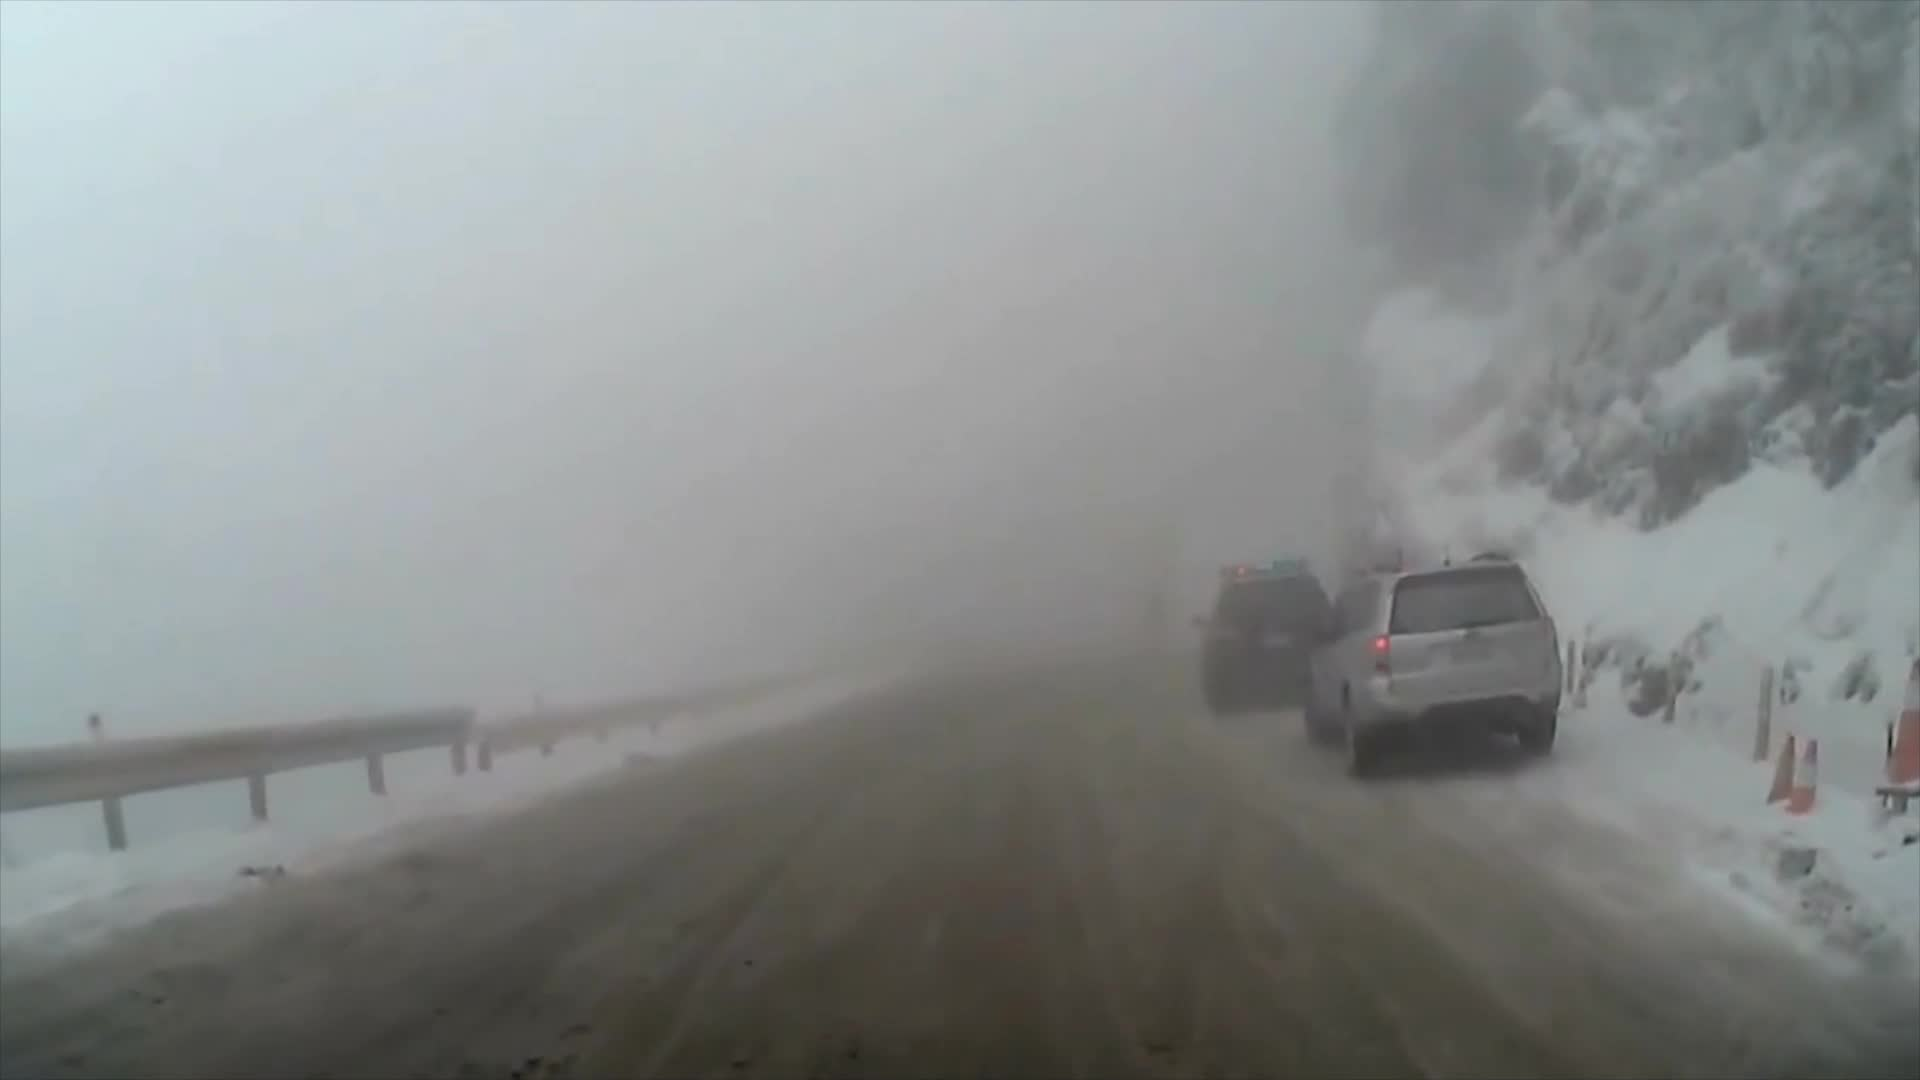vehicle: (1295, 541, 1560, 775), (1188, 554, 1340, 713)
